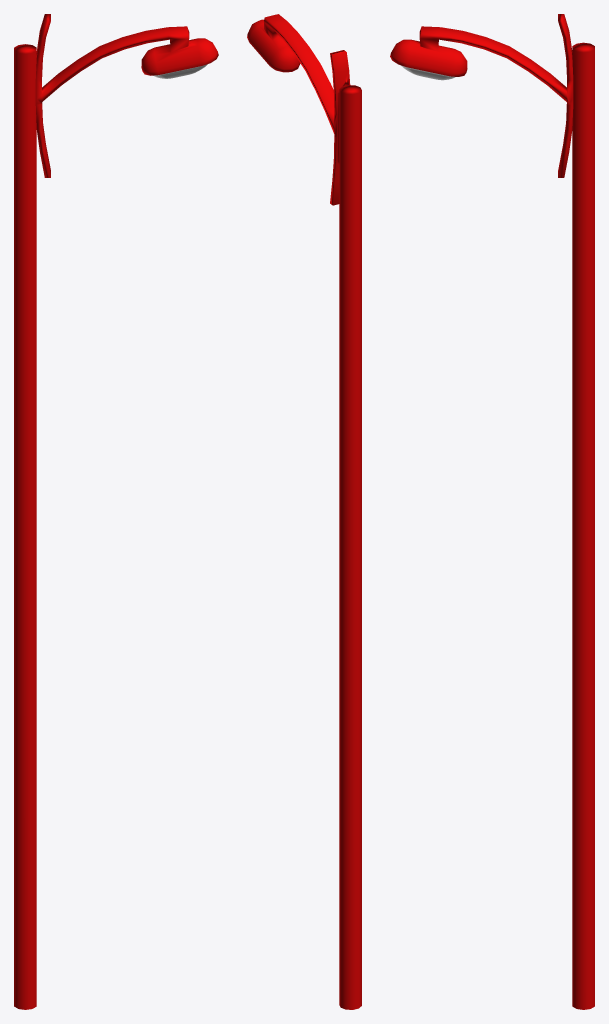
Rendered from Side_Lamp_1.fbx.
3 views of the same model, side by side, from view 1: azimuth 90°, elevation 25°; view 2: azimuth 210°, elevation 25°; view 3: azimuth 270°, elevation 25° (orthographic). The views are drawn at different scales.
Parts seen in each view (by area): view 1: Side_Lamp_1; view 2: Side_Lamp_1; view 3: Side_Lamp_1.
Part boxes in pixels (x1,y1,x2,y2): Side_Lamp_1: (14, 14, 218, 1009); Side_Lamp_1: (247, 14, 361, 1009); Side_Lamp_1: (390, 14, 594, 1009).
Size of the model in its own units: 0.7949 by 25.44 by 4.78.
